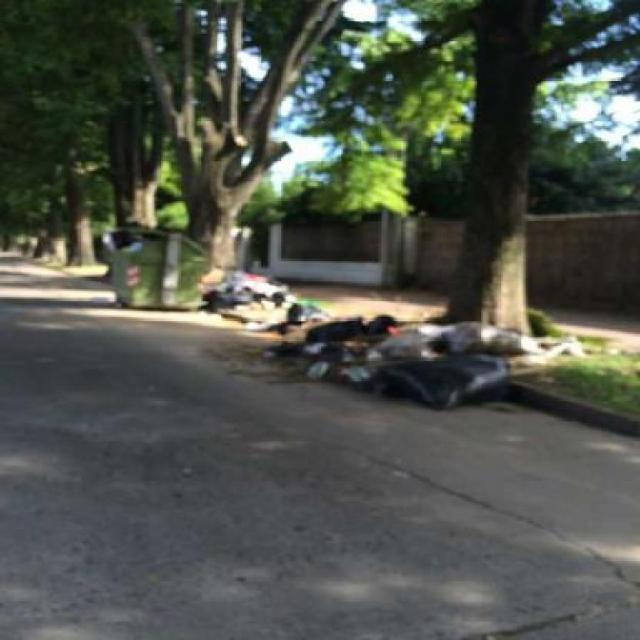garbage: (278, 309, 524, 413), (188, 246, 298, 334), (511, 323, 585, 366), (82, 289, 126, 316)
